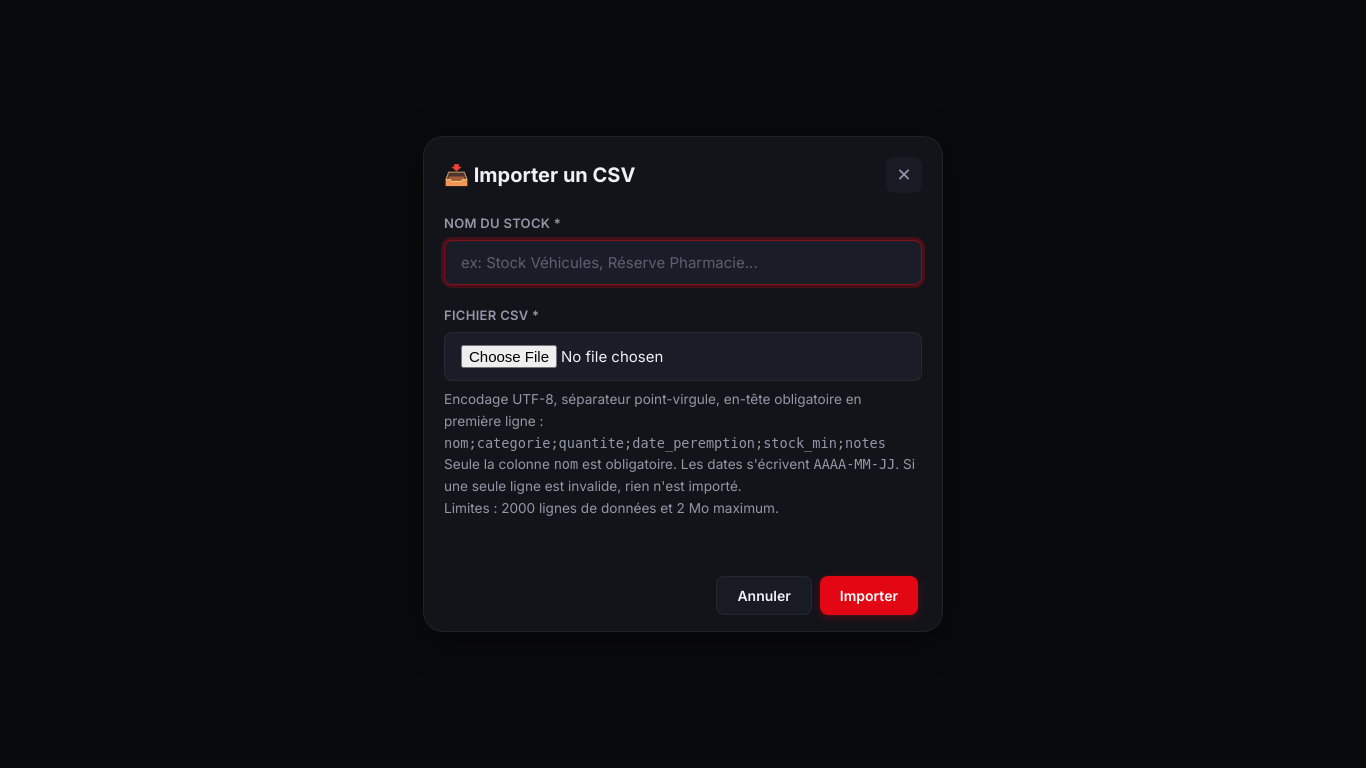
Test: ImportCsvModal › affiche une erreur si aucun fichier n'est sélectionné, sans appeler fetch
The width and height of the screenshot is (1366, 768).
Type "Stock Import" into the field with placeholder "ex: Stock Véhicules, Réserve Pharmacie...". click: (683, 263)
box: [444,240,922,285]
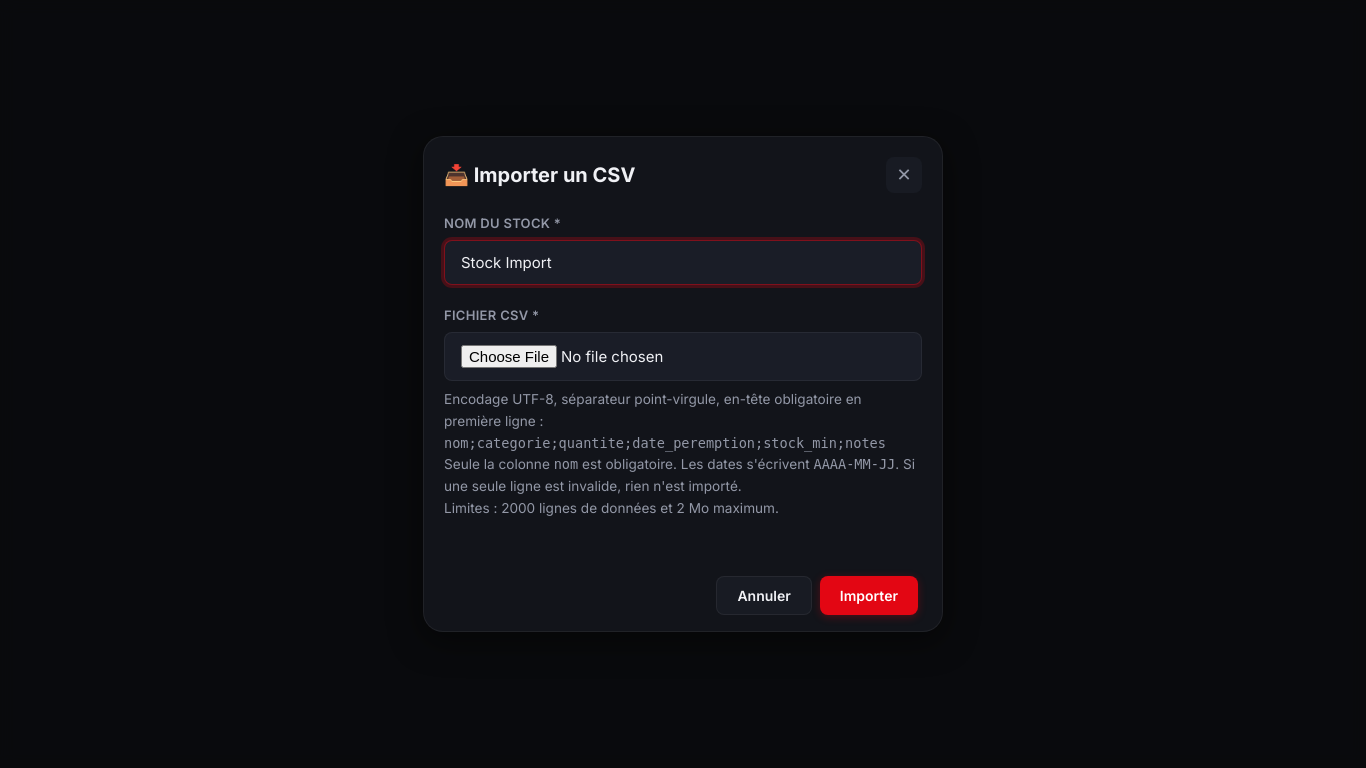
Submit the form, box [424,194,942,631]
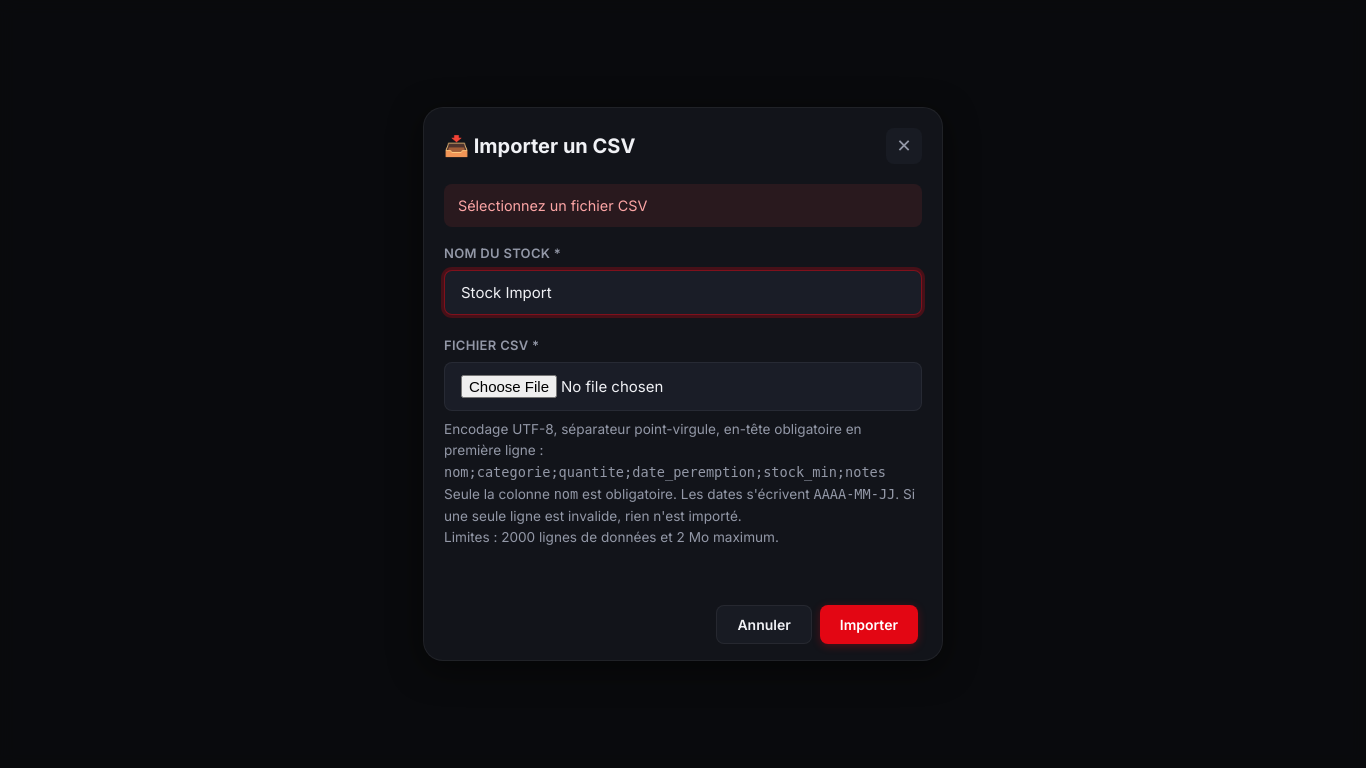
Now the text "Sélectionnez un fichier CSV" is shown, box [444,184,922,227]
